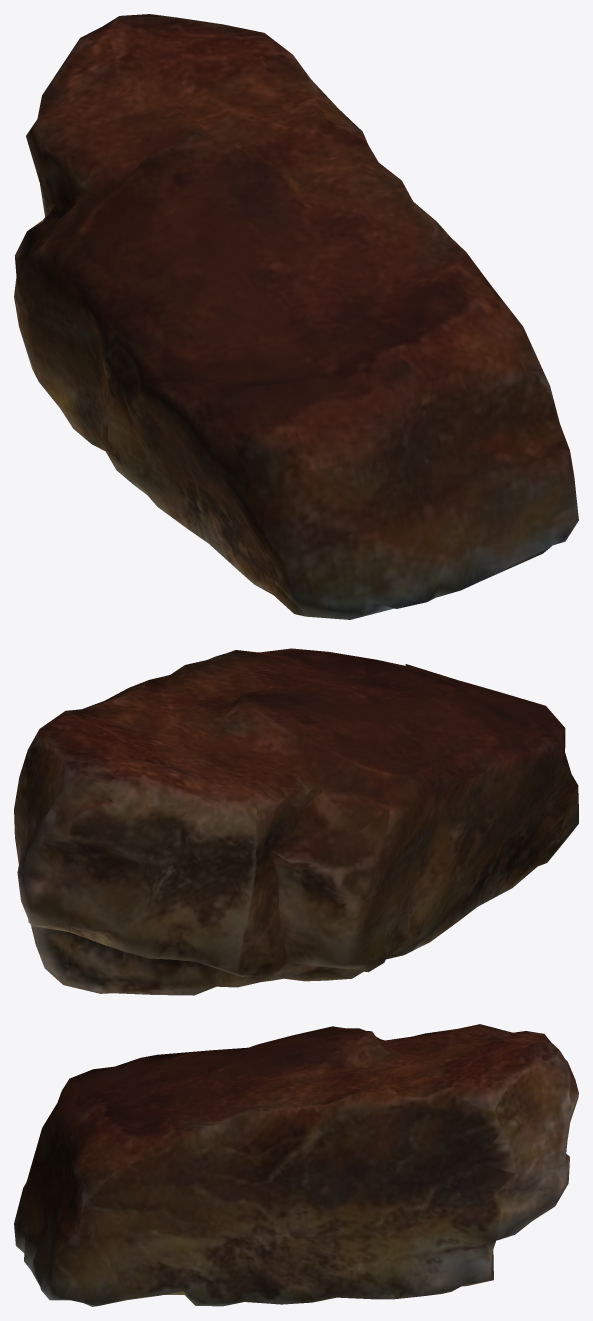
The model's file is rock.glb.
3 views of the same model, one above another, from view 1: azimuth 30°, elevation 25°; view 2: azimuth 150°, elevation 25°; view 3: azimuth 270°, elevation 25° (orthographic). The views are drawn at different scales.
Parts seen in each view (by area): view 1: rock_07; view 2: rock_07; view 3: rock_07.
Part boxes in pixels (bbox=[...]): rock_07: bbox=[14, 14, 578, 619]; rock_07: bbox=[14, 648, 578, 995]; rock_07: bbox=[14, 1024, 578, 1306].
Size of the model in its own units: 0.1678 by 0.1435 by 0.3207.
1 material, 1 textured.
